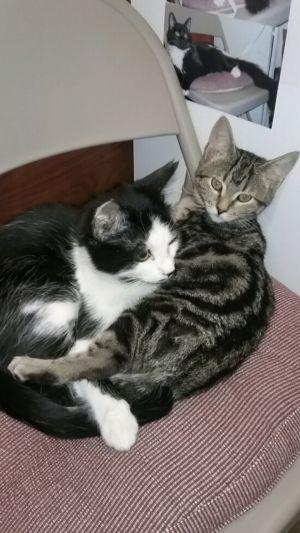bengal: (189, 111, 300, 238)
